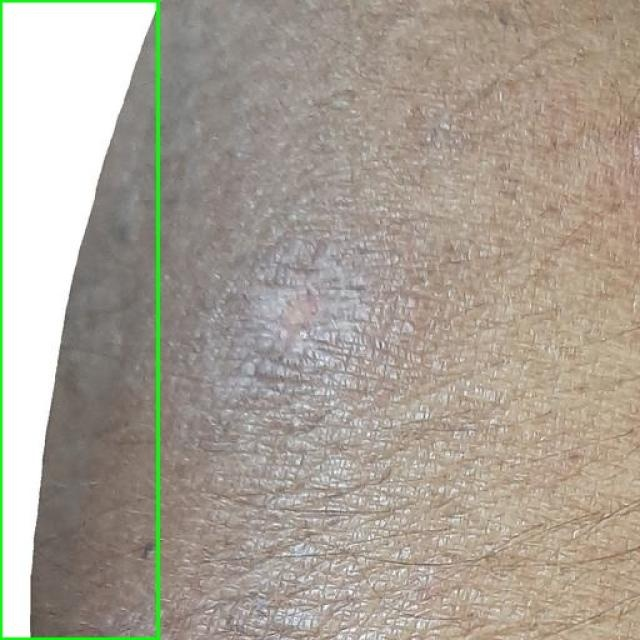Tinea Corporis: (0, 0, 158, 639)
